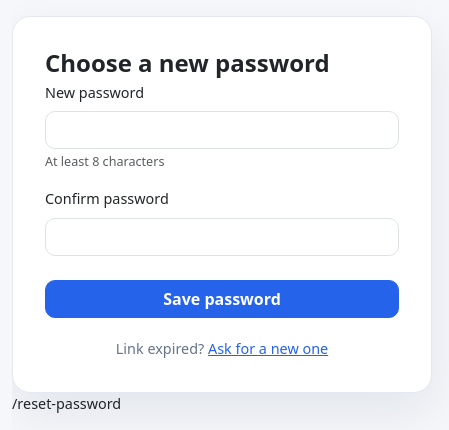
Scenario: Reset password › saves the new password with the token from the link
The width and height of the screenshot is (449, 430).
Type "new-password" into the password field labelled "New password" at (222, 130), box [45,111,399,149]
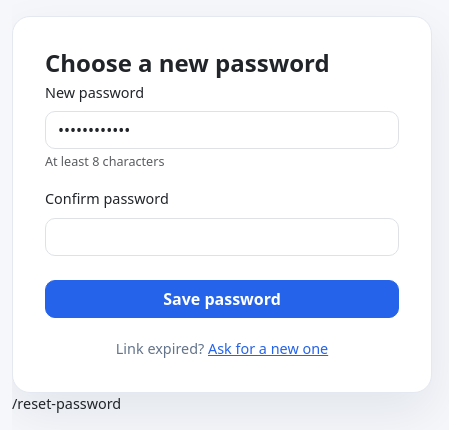
Type "new-password" into the password field labelled "Confirm password" at (222, 237), box [45,218,399,256]
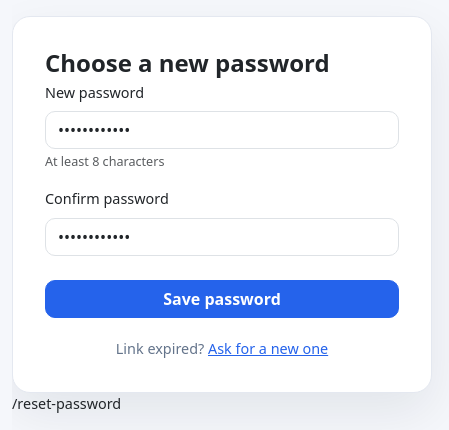
Click the button "Save password" at (222, 299), box [45,280,399,318]
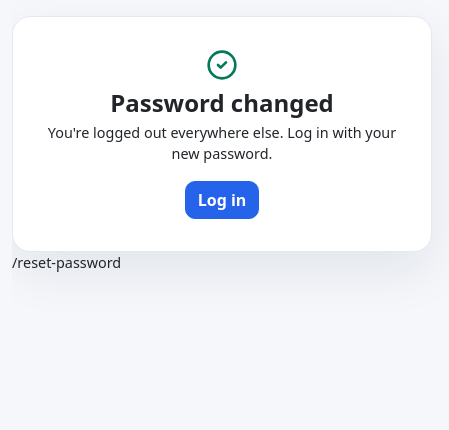
Expected: the heading "Password changed" is shown, [110,86,334,119]
